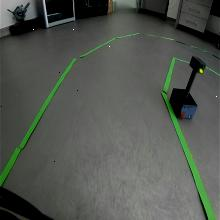green: (190, 56, 206, 75)
